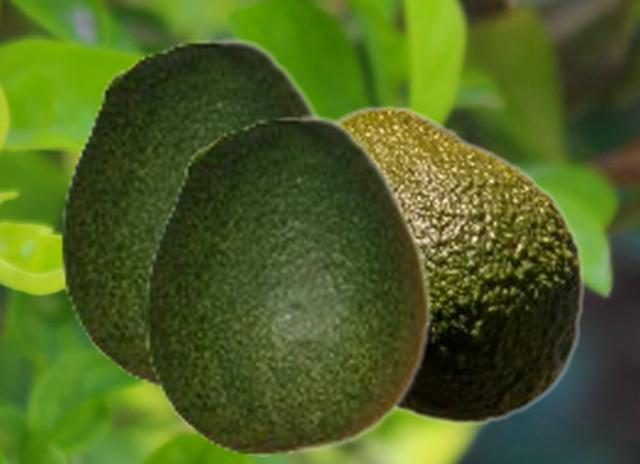avocado: (143, 114, 431, 455), (59, 37, 323, 387), (334, 104, 585, 426)
